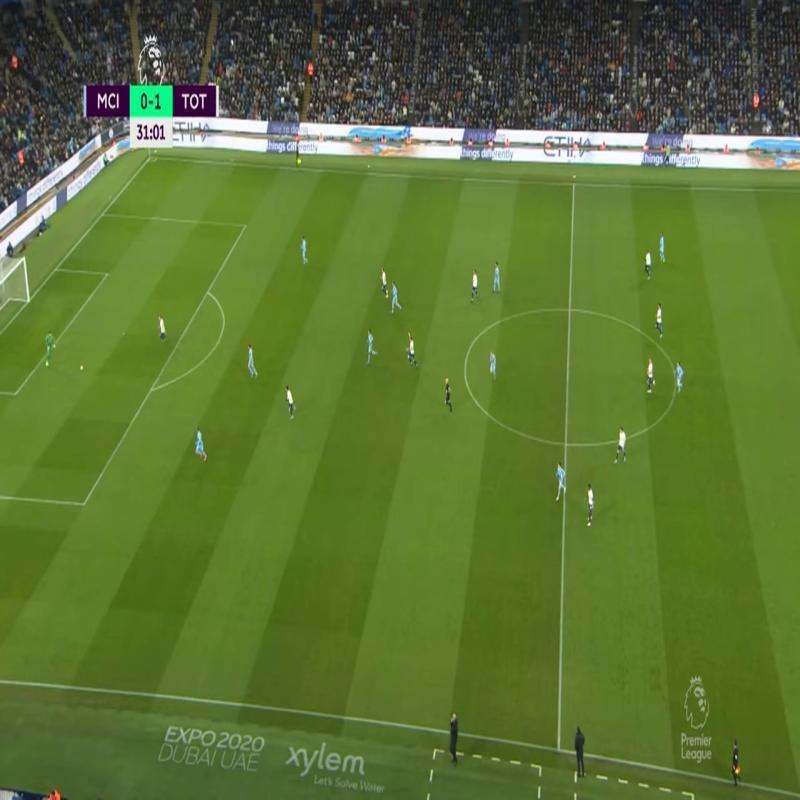1: (141, 150, 159, 167)
10: (200, 285, 216, 301)
11: (143, 382, 160, 398)
12: (76, 496, 92, 513), (6, 387, 23, 403)
13: (568, 178, 580, 192)
14: (563, 302, 578, 318)
15: (558, 438, 574, 453)
16: (549, 739, 569, 761)
2: (97, 204, 110, 224)
3: (50, 263, 62, 278)
7: (102, 267, 113, 281)
9: (238, 219, 254, 234)
c: (458, 356, 473, 371), (670, 371, 680, 392)
